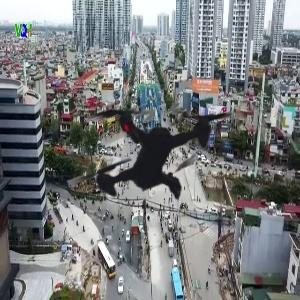drone: (28, 25, 277, 274)
